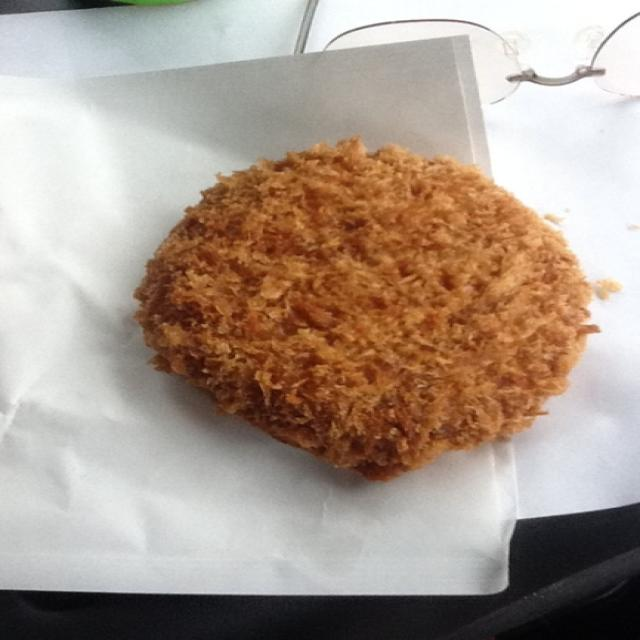炸货点心: (132, 67, 624, 530)
